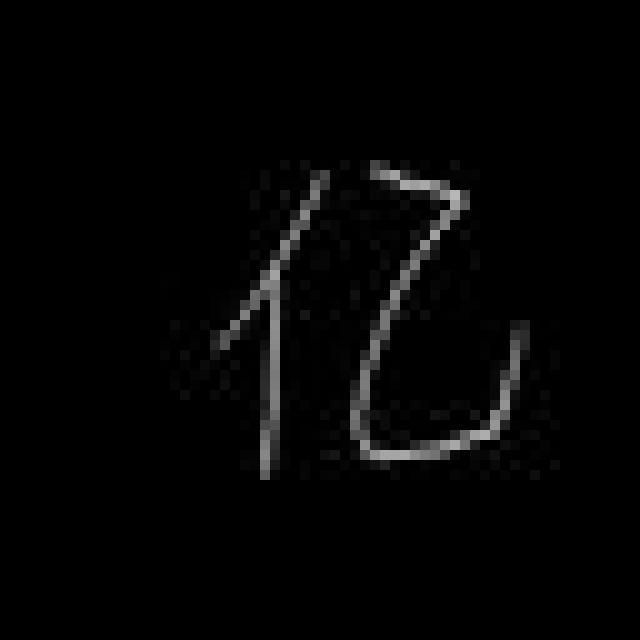100000 -a hundred thousand-: (204, 155, 531, 476)
